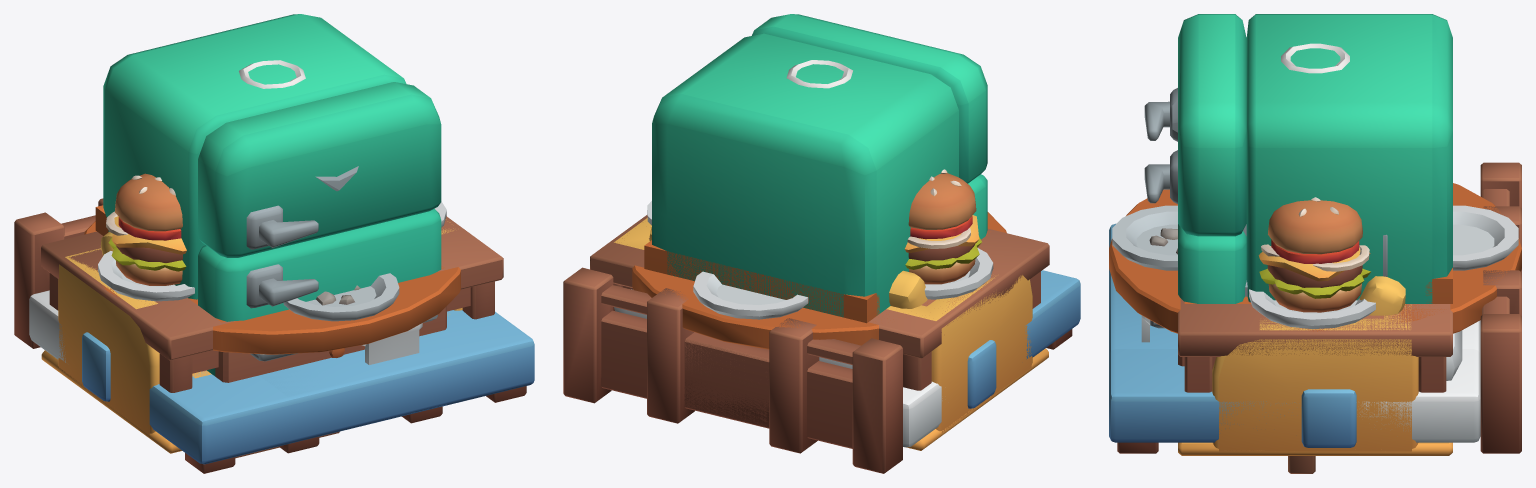
Rendered from props.glb.
3 renders of one model, left to right at view 1: azimuth 30°, elevation 25°; view 2: azimuth 150°, elevation 25°; view 3: azimuth 270°, elevation 25°, orthographic. The views are drawn at different scales.
Visible parts, largest first — view 1: bed_double_A, fridge_A_decorated_door_top, fridge_A_decorated, table_round_A_decorated, fridge_A_decorated_door_bottom, table_medium_long, couch_pillows, bed_single_A, crate_tomatoes, kitchencounter_straight_A_decorated, rug_rectangle_stripes_A, lamp_standing; view 2: fridge_A_decorated, bed_double_A, table_round_A_decorated, bed_single_A, couch_pillows, table_medium_long, fridge_A_decorated_door_top, kitchencounter_sink_backsplash, rug_rectangle_stripes_A, fridge_A_decorated_door_bottom, lamp_standing; view 3: fridge_A_decorated, table_round_A_decorated, bed_double_A, couch_pillows, fridge_A_decorated_door_top, table_medium_long, fridge_A_decorated_door_bottom, bed_single_A, rug_rectangle_stripes_A, lamp_standing, kitchencounter_sink_backsplash, kitchencounter_straight_A_decorated (+1 smaller).
Boxes of the visible parts, bbox=[...] form: bed_double_A: bbox=[14, 212, 534, 473]; fridge_A_decorated_door_top: bbox=[198, 82, 441, 257]; fridge_A_decorated: bbox=[103, 14, 406, 299]; table_round_A_decorated: bbox=[84, 173, 460, 354]; fridge_A_decorated_door_bottom: bbox=[198, 209, 441, 376]; table_medium_long: bbox=[41, 216, 503, 392]; couch_pillows: bbox=[58, 219, 462, 435]; bed_single_A: bbox=[98, 198, 446, 453]; crate_tomatoes: bbox=[215, 306, 446, 382]; kitchencounter_straight_A_decorated: bbox=[189, 266, 443, 364]; rug_rectangle_stripes_A: bbox=[41, 350, 181, 453]; lamp_standing: bbox=[239, 60, 305, 88]; fridge_A_decorated: bbox=[652, 33, 958, 317]; bed_double_A: bbox=[563, 267, 1080, 473]; table_round_A_decorated: bbox=[632, 169, 1006, 349]; bed_single_A: bbox=[647, 288, 819, 453]; couch_pillows: bbox=[614, 218, 1032, 432]; table_medium_long: bbox=[590, 215, 1049, 390]; fridge_A_decorated_door_top: bbox=[752, 14, 987, 183]; kitchencounter_sink_backsplash: bbox=[644, 231, 990, 323]; rug_rectangle_stripes_A: bbox=[906, 348, 1048, 450]; fridge_A_decorated_door_bottom: bbox=[968, 174, 987, 239]; lamp_standing: bbox=[786, 60, 852, 88]; fridge_A_decorated: bbox=[1246, 14, 1452, 303]; table_round_A_decorated: bbox=[1109, 183, 1521, 342]; bed_double_A: bbox=[1109, 162, 1521, 453]; couch_pillows: bbox=[1212, 276, 1418, 451]; fridge_A_decorated_door_top: bbox=[1144, 14, 1246, 236]; table_medium_long: bbox=[1178, 298, 1452, 392]; fridge_A_decorated_door_bottom: bbox=[1144, 150, 1246, 303]; bed_single_A: bbox=[1109, 206, 1521, 352]; rug_rectangle_stripes_A: bbox=[1178, 442, 1452, 455]; lamp_standing: bbox=[1281, 43, 1349, 73]; kitchencounter_sink_backsplash: bbox=[1185, 268, 1452, 303]; kitchencounter_straight_A_decorated: bbox=[1141, 224, 1387, 342].
Bounding box in the file's own units: 3.1 × 3.12 × 3.
3 materials, 3 textured.
